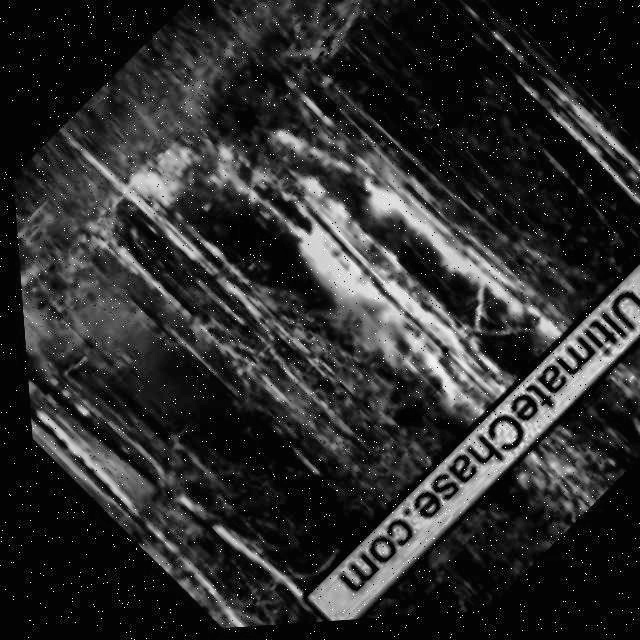Fire: (180, 75, 564, 474), (116, 107, 238, 222), (502, 437, 601, 538)
